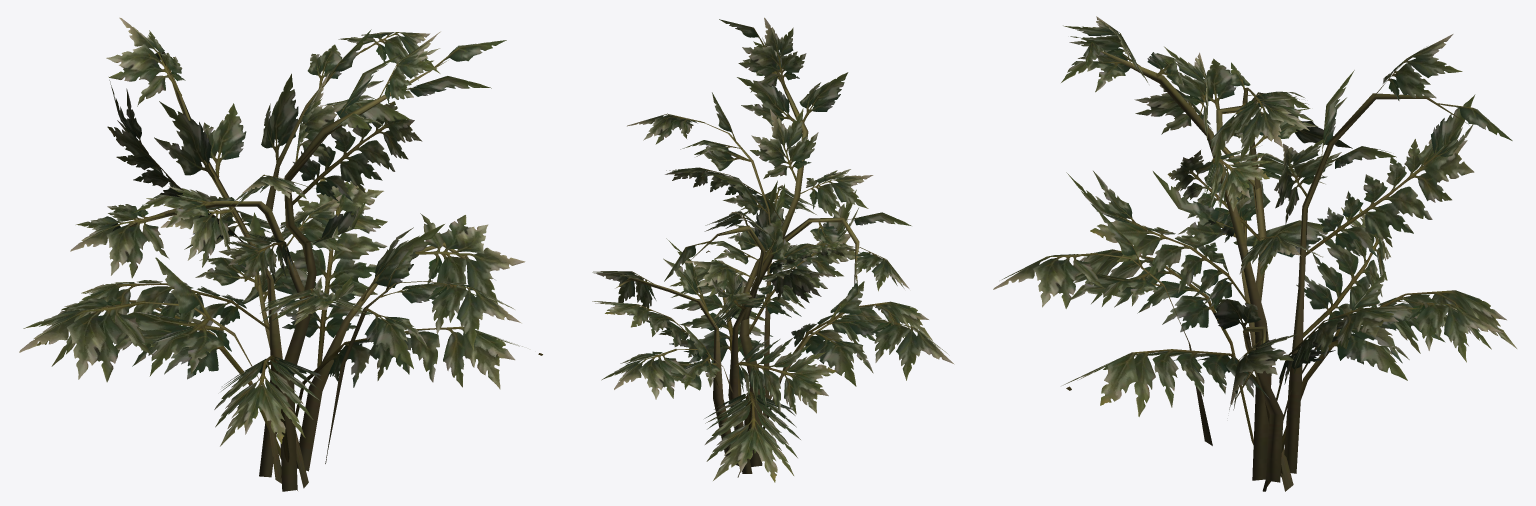
3 views of the same model, side by side, from view 1: azimuth 30°, elevation 25°; view 2: azimuth 150°, elevation 25°; view 3: azimuth 270°, elevation 25° (orthographic). The views are drawn at different scales.
Bounding box in the file's own units: 7.7 × 7.62 × 7.24.
Materials: 1 (1 with a texture image).
